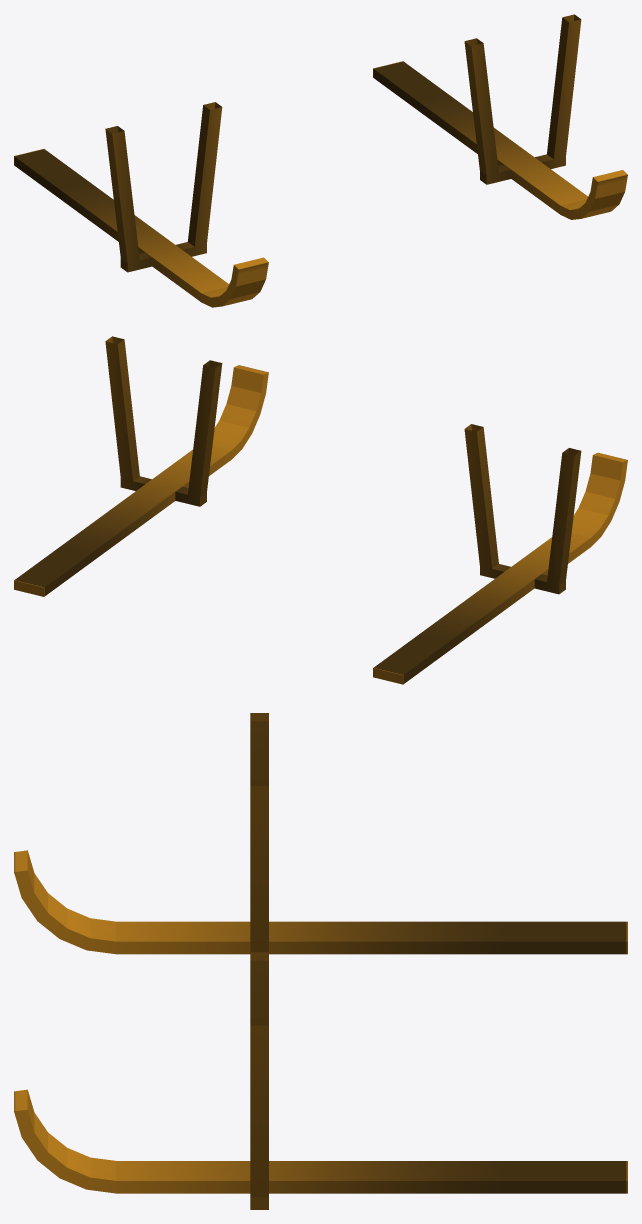
File: Llantas2.obj
The picture shows the model from 3 angles, top to bottom: view 1: azimuth 30°, elevation 25°; view 2: azimuth 150°, elevation 25°; view 3: azimuth 270°, elevation 25°; orthographic projection. The views are drawn at different scales.
Visible parts, largest first — view 1: Llantas3; view 2: Llantas3; view 3: Llantas3.
Boxes of the visible parts, x1,y1,x2,y2 form: Llantas3: (14, 14, 627, 307); Llantas3: (14, 336, 627, 684); Llantas3: (14, 713, 627, 1209).
Bounding box in the file's own units: 52.27 × 15.16 × 43.38.
1 material, 1 textured.
